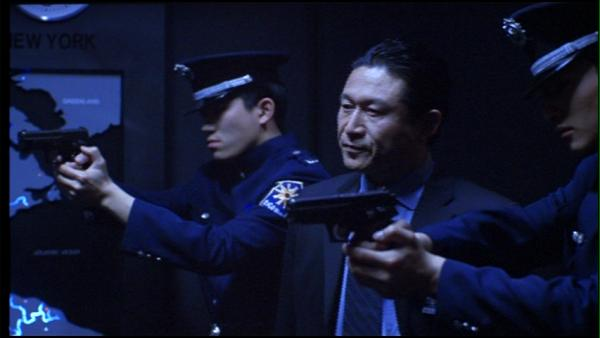Gun: (288, 190, 399, 240), (20, 126, 90, 160)
